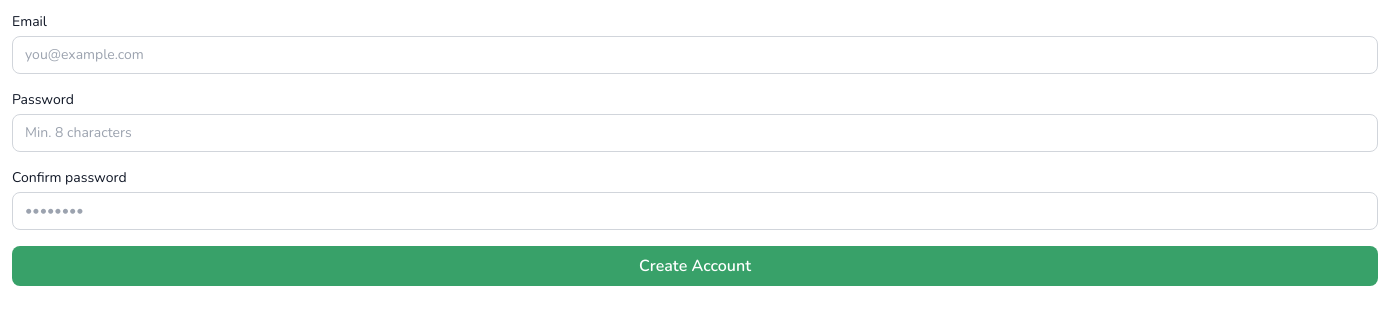
Test: SignupForm › shows error when password is too short
The width and height of the screenshot is (1390, 336).
Type "user@example.com" into the field labelled "Email".
click(695, 55); type("user@example.com")  # box [12,36,1378,74]
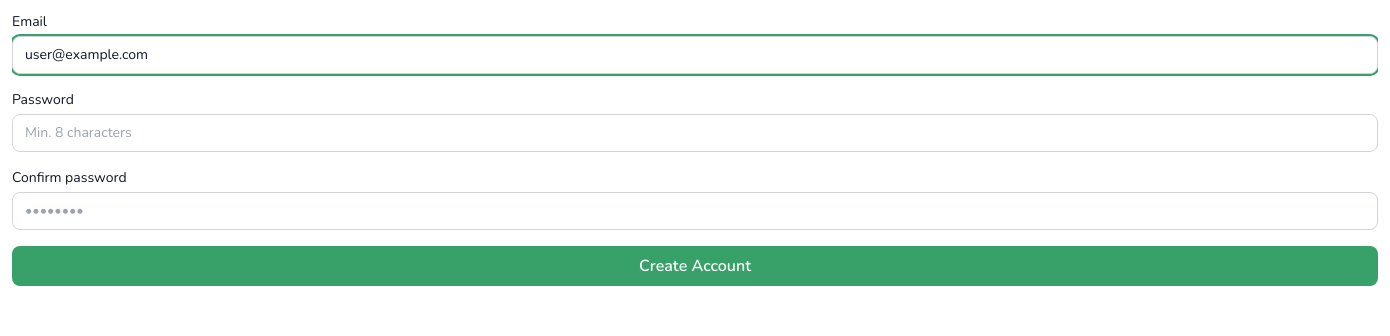
Type "short" into the password field labelled "Password".
click(695, 133); type("short")  # box [12,114,1378,152]
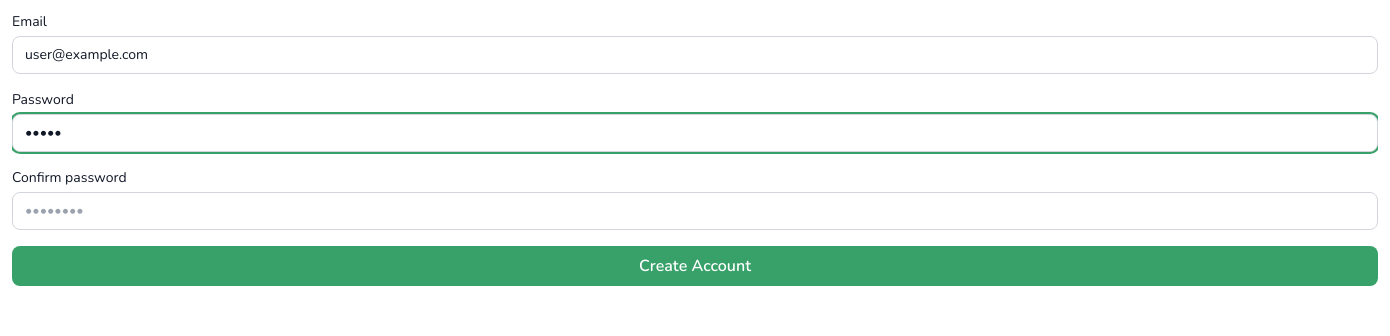
Type "short" into the password field labelled "Confirm password".
click(695, 211); type("short")  # box [12,192,1378,230]
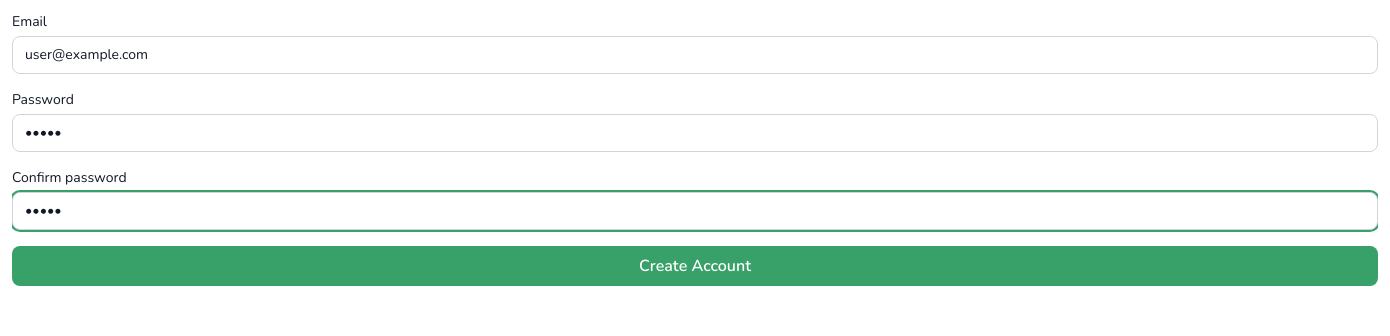
Click the button "Create Account".
click(695, 266)  # box [12,246,1378,286]
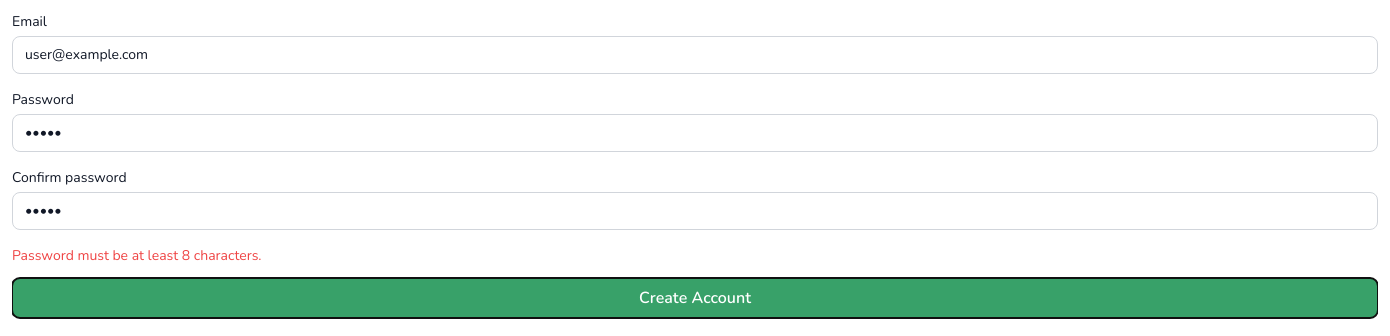
Now the message shows "at least 8 characters", box [12,246,262,265]
